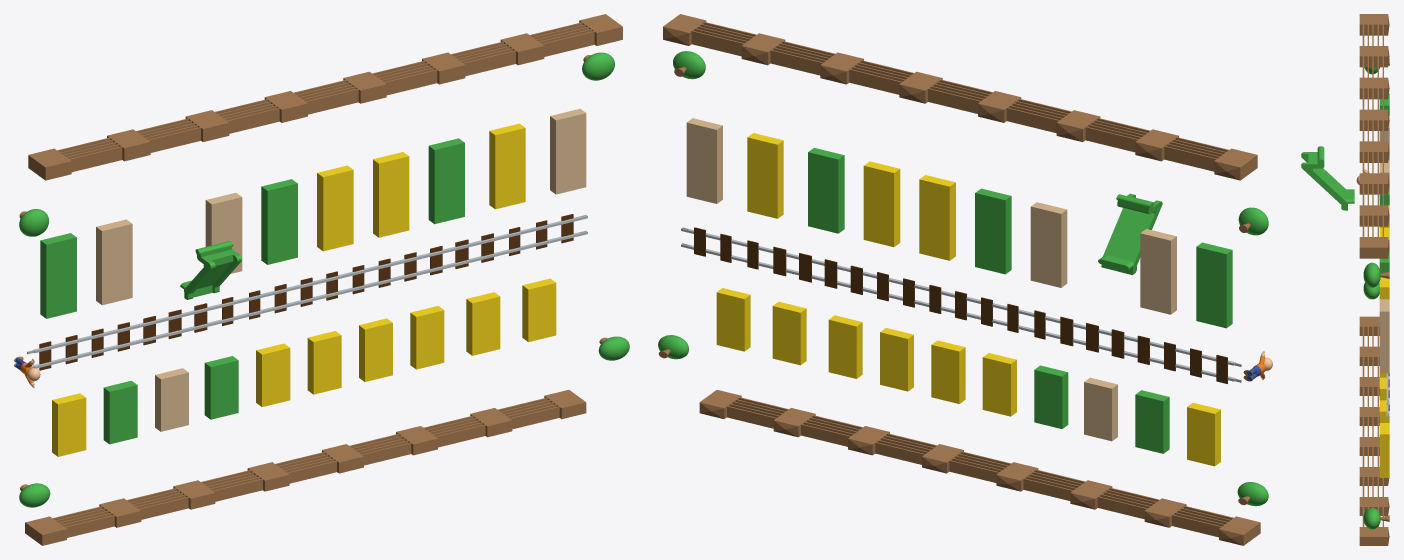
File: tinker.obj
The picture shows the model from 3 angles, left to right: view 1: azimuth 30°, elevation 25°; view 2: azimuth 150°, elevation 25°; view 3: azimuth 270°, elevation 25°; orthographic projection. The views are drawn at different scales.
Visible parts, largest first — view 1: group_0_11107152, group_0_16768282, group_0_4634441, group_0_14860437, group_0_6306067, group_0_12568524; view 2: group_0_11107152, group_0_16768282, group_0_4634441, group_0_14860437, group_0_6306067, group_0_12568524; view 3: group_0_11107152, group_0_4634441, group_0_16768282, group_0_14860437, group_0_12568524.
Part boxes in pixels (<box>): group_0_11107152: <box>14,14,622,545</box>; group_0_16768282: <box>52,123,556,456</box>; group_0_4634441: <box>19,52,629,507</box>; group_0_14860437: <box>96,108,586,431</box>; group_0_6306067: <box>39,214,573,370</box>; group_0_12568524: <box>27,215,587,368</box>; group_0_11107152: <box>658,14,1260,545</box>; group_0_16768282: <box>716,133,1220,466</box>; group_0_4634441: <box>658,51,1268,506</box>; group_0_14860437: <box>686,118,1176,441</box>; group_0_6306067: <box>694,227,1227,383</box>; group_0_12568524: <box>681,227,1241,382</box>; group_0_11107152: <box>1359,14,1389,545</box>; group_0_4634441: <box>1301,67,1389,529</box>; group_0_16768282: <box>1379,205,1389,477</box>; group_0_14860437: <box>1379,116,1389,373</box>; group_0_12568524: <box>1386,373,1389,418</box>.
Size of the model in its own units: 582 by 345 by 88.
